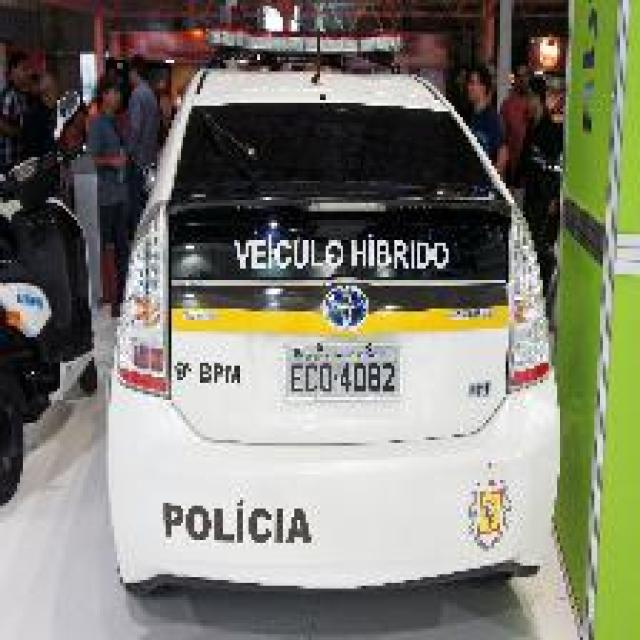Police-car: (103, 23, 563, 594)
